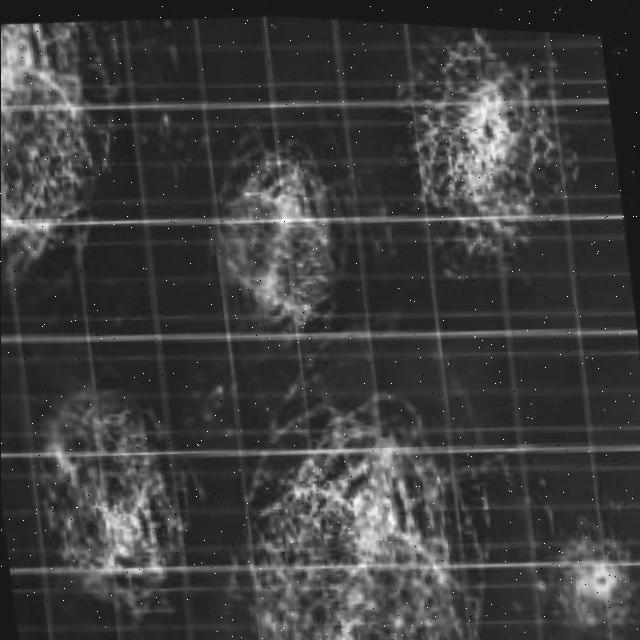Anomaly Solar Panel: (0, 13, 640, 640)
Structural Damage: (211, 382, 500, 640), (360, 22, 624, 273), (1, 378, 242, 633), (172, 115, 408, 352), (0, 19, 127, 265), (530, 521, 640, 640)
